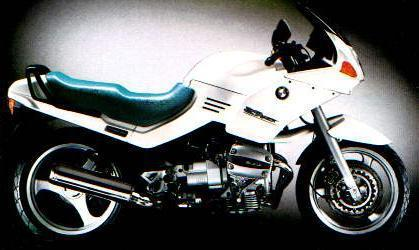motorcycle: (1, 7, 419, 250)
